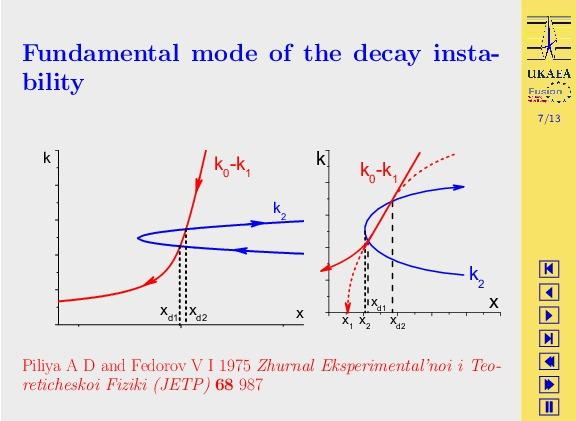title: (15, 28, 509, 104)
